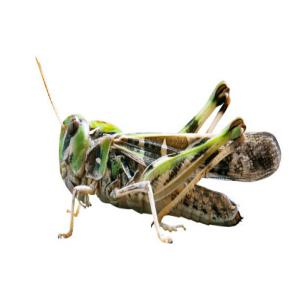locust: (44, 76, 284, 245)
